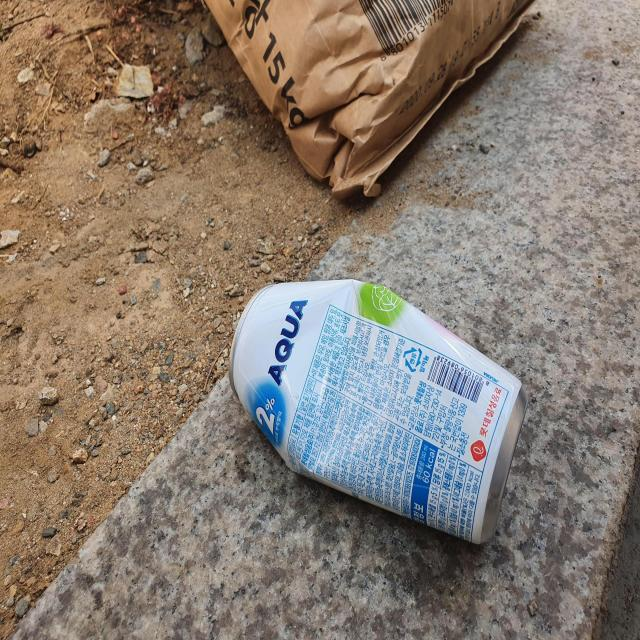can: (228, 279, 528, 544)
